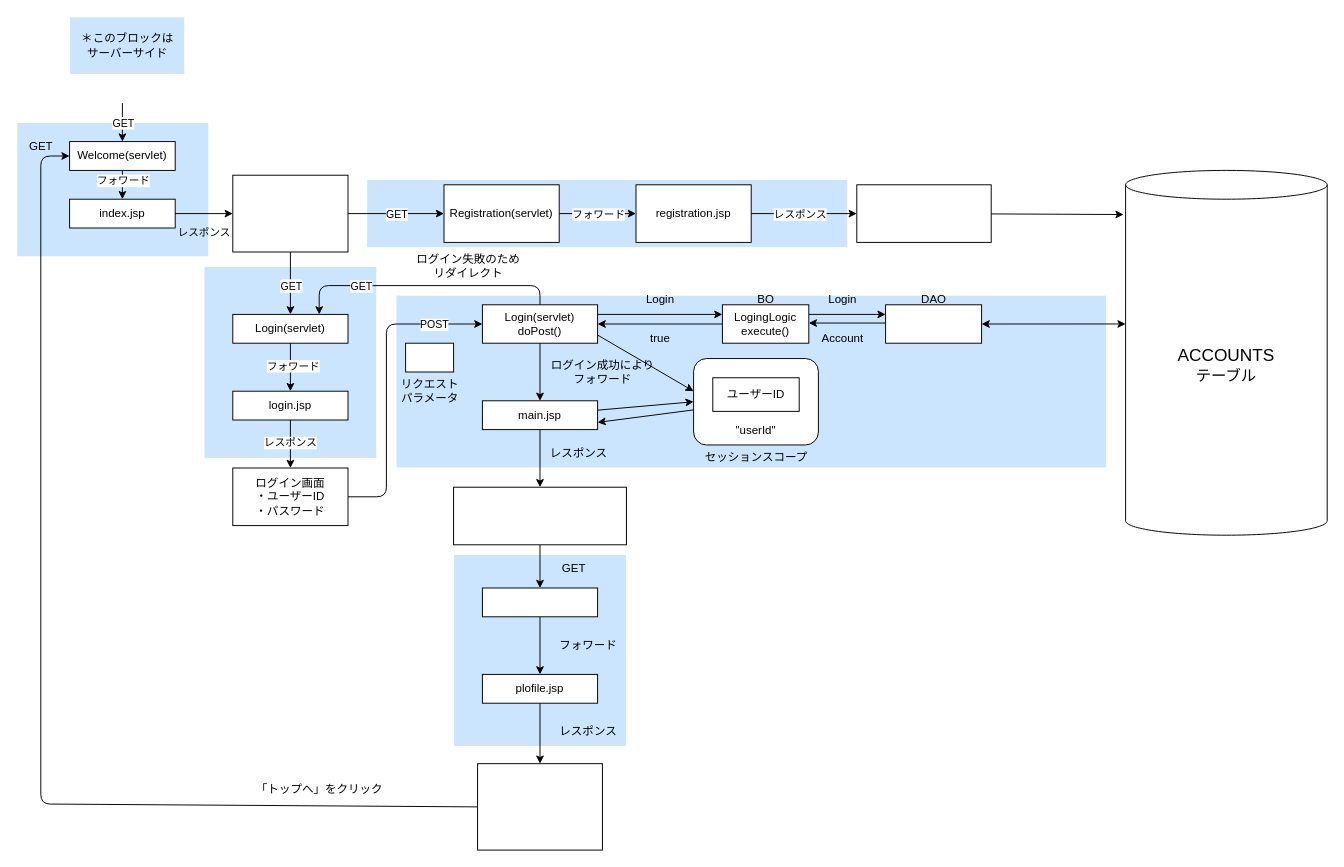
Some shapes in this 1344 by 867 pixel diagram are drawn without their labels. The centre of each missing label's shape, as x and y in pixels:
"AccountsDAO findByLogin()" goes at pixel 933 323.
"Plofile(servlet)" goes at pixel 539 602.
"userId pass" goes at pixel 429 357.
"ダッシュボード （一覧） ようこそ （ユーザーID）さん" goes at pixel 539 515.
"トップ画面 ・ログイン ・ユーザー登録" goes at pixel 290 213.
"利用者登録" goes at pixel 923 213.
"利用者詳細 （プロフィールシート） トップへ" goes at pixel 539 806.
